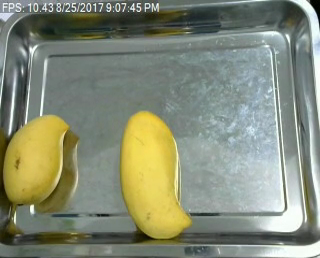Mango: (118, 109, 193, 241), (3, 113, 71, 206)
